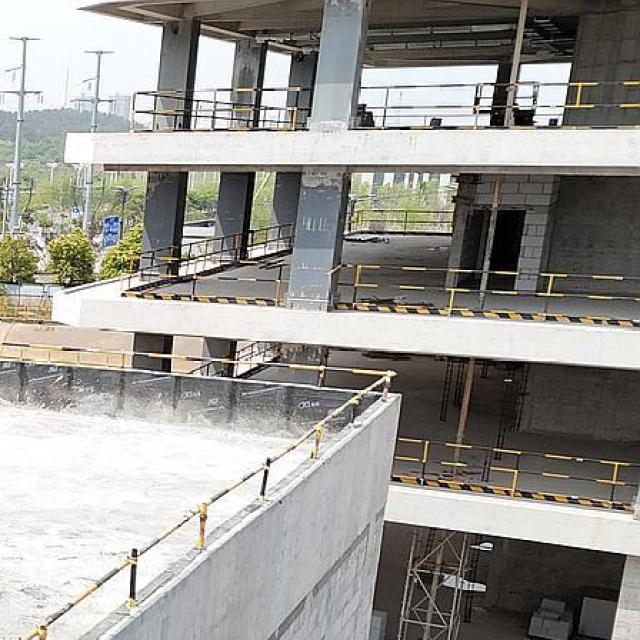edge_guardrail: (0, 341, 399, 640), (391, 436, 640, 509), (337, 262, 640, 317), (120, 221, 296, 303), (355, 84, 640, 129), (129, 86, 314, 133), (345, 209, 455, 234), (190, 99, 253, 128), (258, 109, 293, 128)
